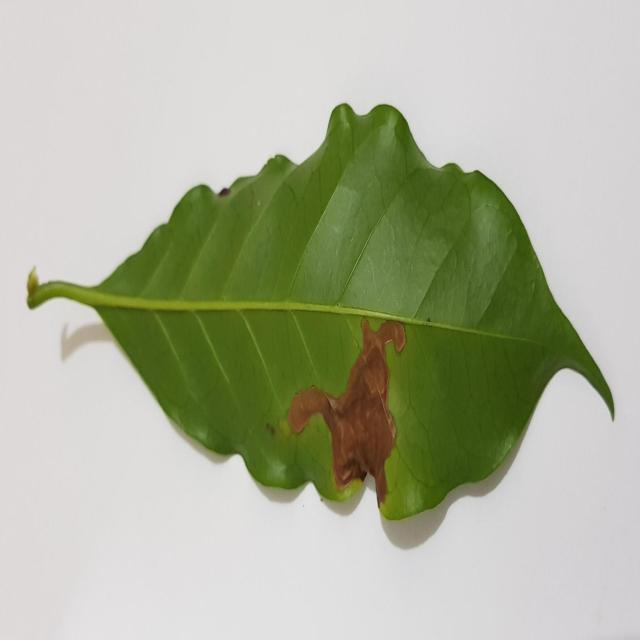Plaga-Minador: (25, 104, 617, 523)
